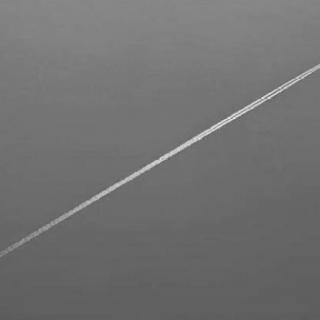Contrails: (0, 62, 320, 269)
